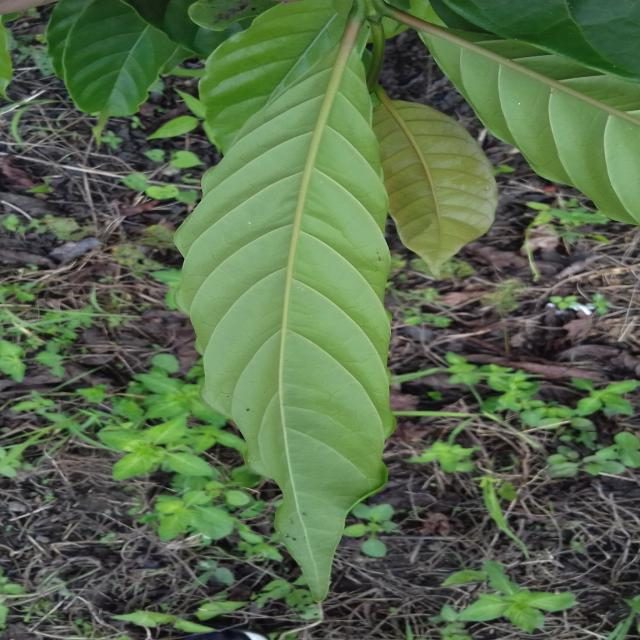Sanas: (175, 0, 395, 616)
